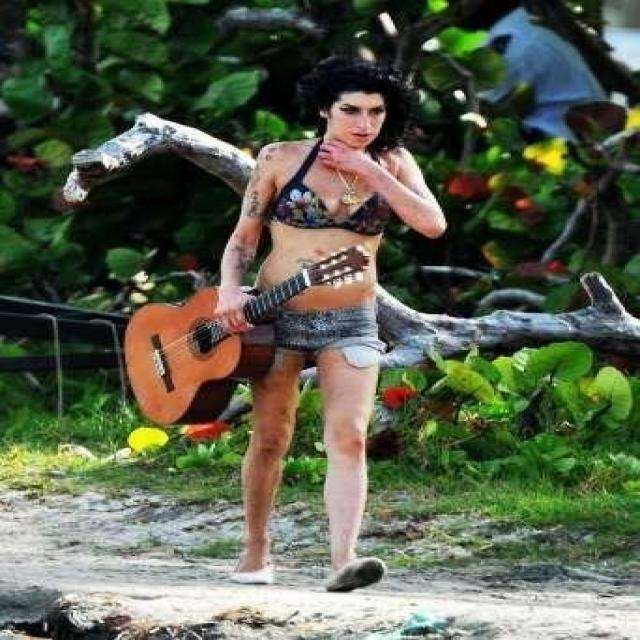guitar: (121, 251, 372, 425)
